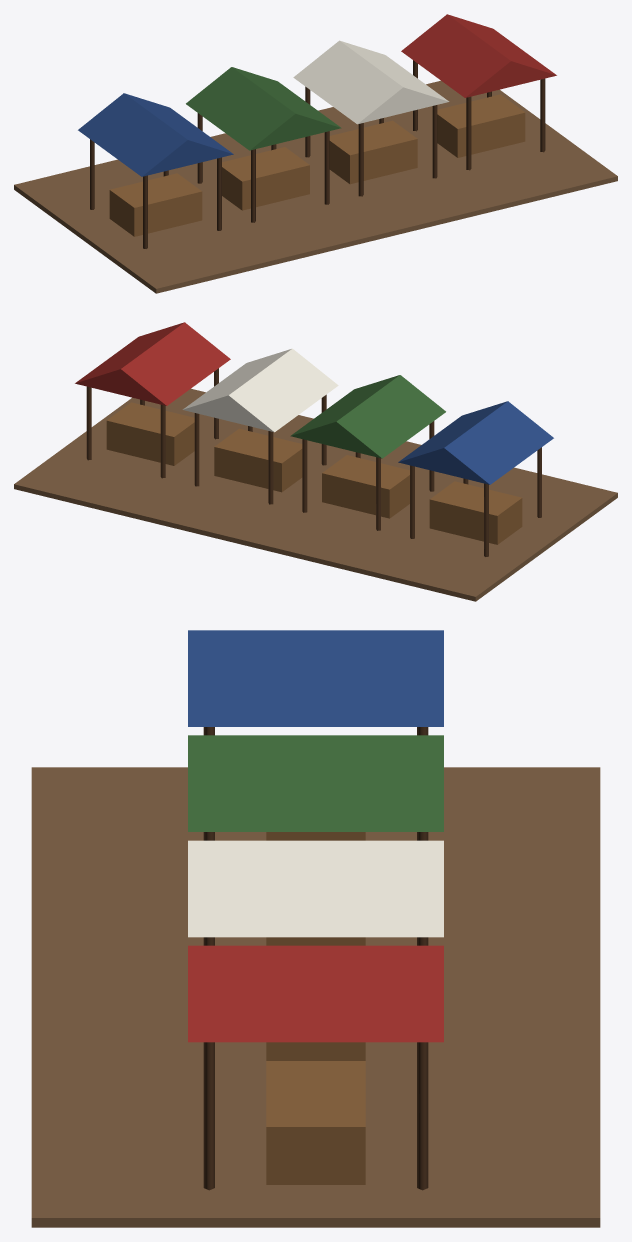
The model's file is bld_special_market_a01_lod1.glb.
3 views of the same model, one above another, from view 1: azimuth 30°, elevation 25°; view 2: azimuth 150°, elevation 25°; view 3: azimuth 270°, elevation 25° (orthographic). The views are drawn at different scales.
Parts seen in each view (by area): view 1: body; view 2: body; view 3: body.
Boxes of the visible parts, x1,y1,x2,y2 form: body: (14,14,617,293); body: (14,322,617,601); body: (31,630,600,1227).
Bounding box in the file's own units: 15 × 3.35 × 8.
